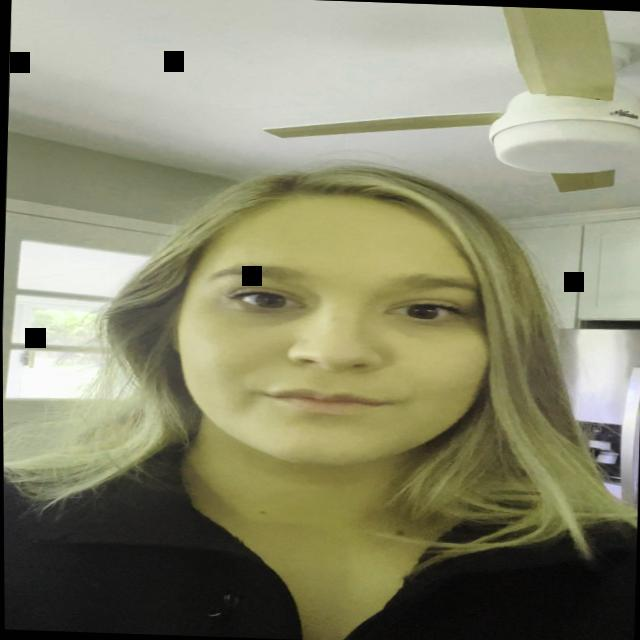NO-Mask: (149, 183, 537, 500)
